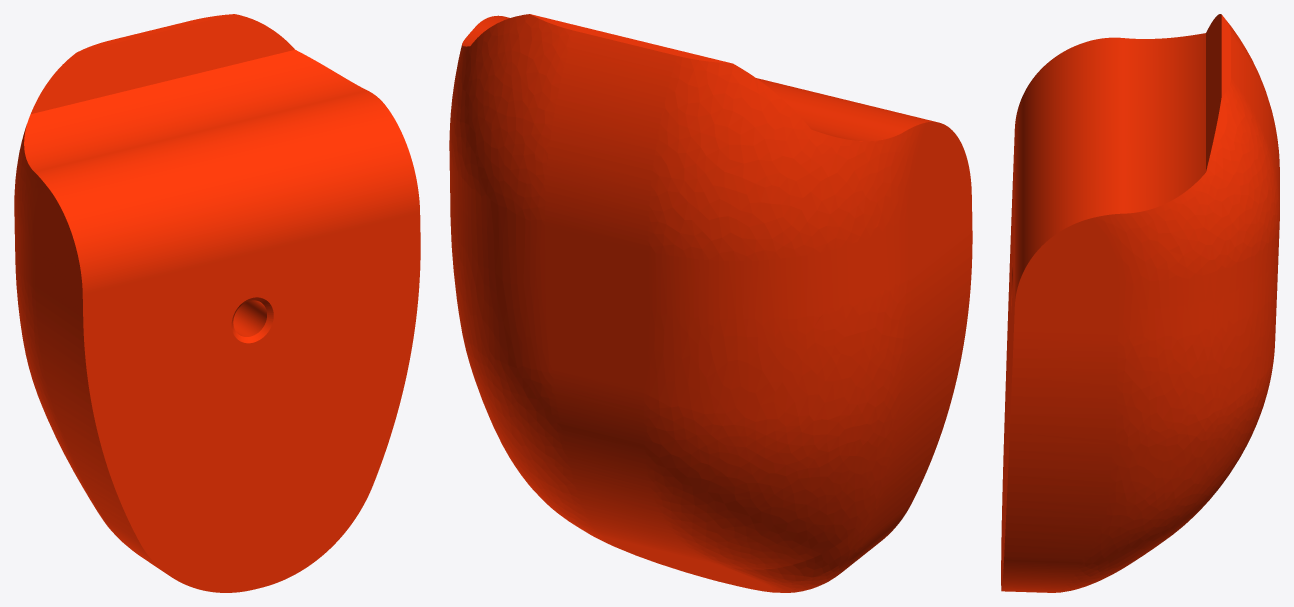
Rendered from R_Hand_Thumb_Distal_visuals_ALLEX_Right_Hand_Thumb_Distal_Pad.obj.
3 views of the same model, side by side, from view 1: azimuth 30°, elevation 25°; view 2: azimuth 150°, elevation 25°; view 3: azimuth 270°, elevation 25° (orthographic). The views are drawn at different scales.
Size of the model in its own units: 0.016 by 0.0218 by 0.0106.
